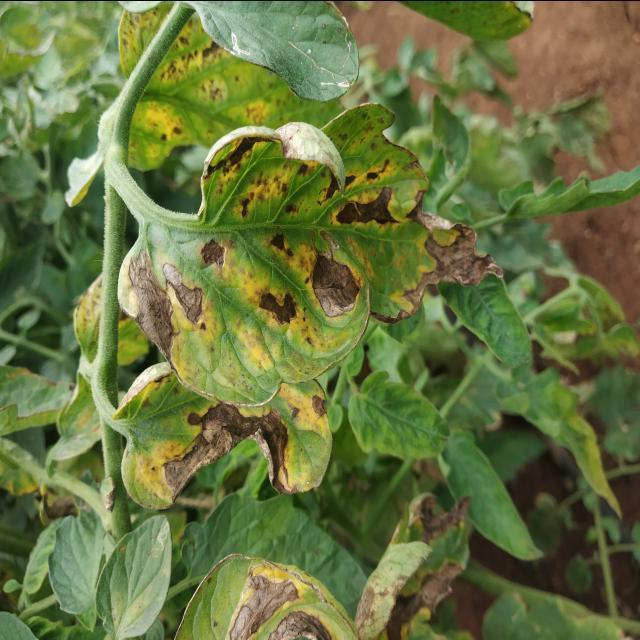Tomato mosaic virus leaf: (121, 102, 511, 404), (113, 368, 345, 512), (178, 548, 363, 640)
